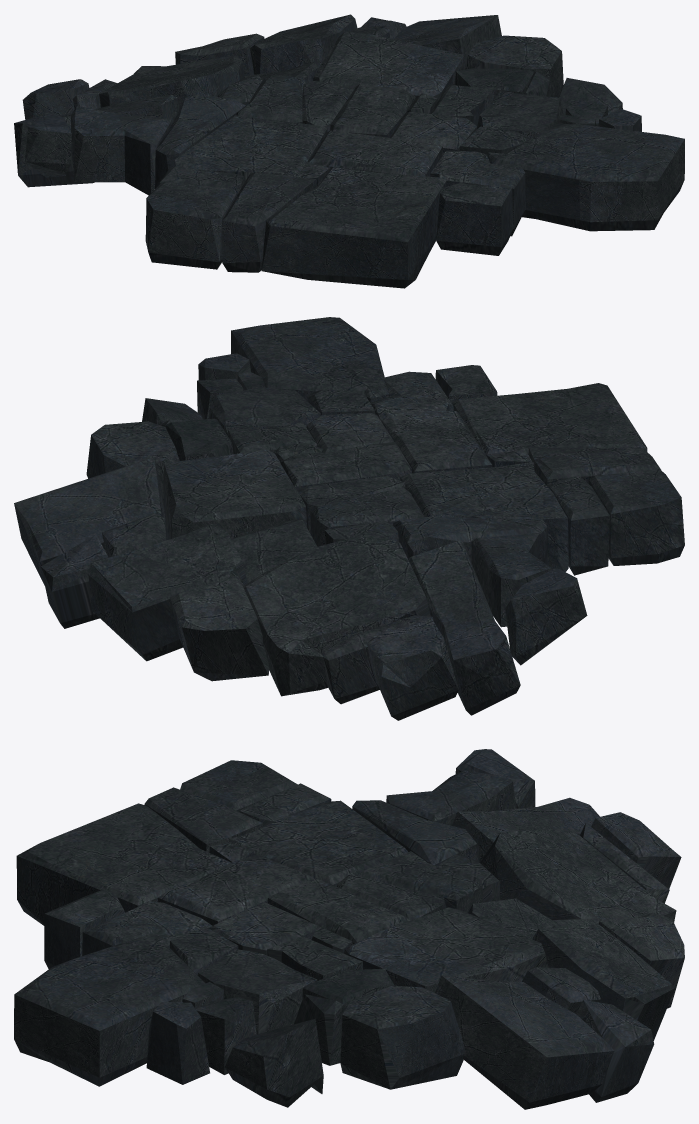
File: Roca4.obj
3 views of the same model, one above another, from view 1: azimuth 30°, elevation 25°; view 2: azimuth 150°, elevation 25°; view 3: azimuth 270°, elevation 25° (orthographic). The views are drawn at different scales.
Parts seen in each view (by area): view 1: XelNaga_Cavern_Stone_Bricks_Crumbled_04; view 2: XelNaga_Cavern_Stone_Bricks_Crumbled_04; view 3: XelNaga_Cavern_Stone_Bricks_Crumbled_04.
Boxes of the visible parts, x1=… form: XelNaga_Cavern_Stone_Bricks_Crumbled_04: x1=14, y1=14, x2=684, y2=288; XelNaga_Cavern_Stone_Bricks_Crumbled_04: x1=14, y1=317, x2=684, y2=720; XelNaga_Cavern_Stone_Bricks_Crumbled_04: x1=14, y1=749, x2=684, y2=1109.
Bounding box in the file's own units: 4.76 × 0.9759 × 4.73.
1 material, 1 textured.
